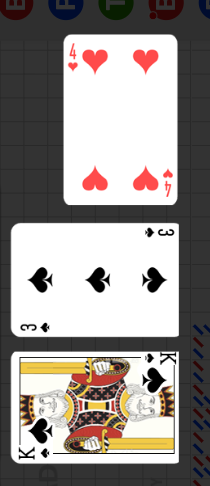3S: (142, 226, 176, 240)
4H: (67, 42, 80, 73)
KS: (17, 445, 54, 462)
